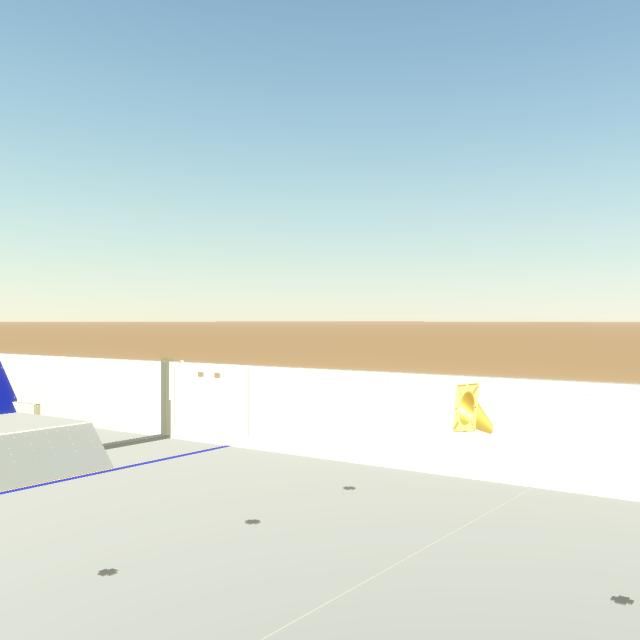frc_cone: (453, 383, 493, 434)
